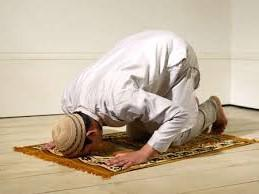sujud: (51, 29, 229, 169)
